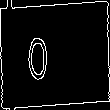O_N: (45, 28, 65, 82)
